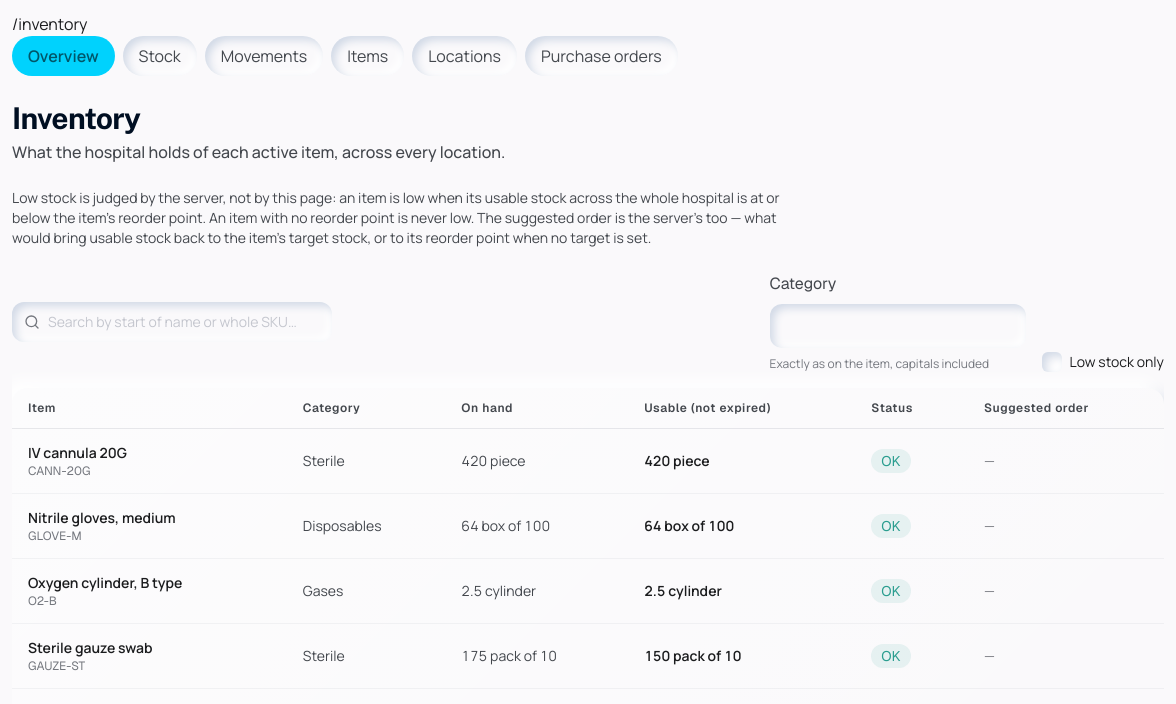
it: inventory overview › sends the search trimmed, once the typing stops
The image size is (1176, 704).
Type "  ster" into the field labelled "Search by start of name or whole SKU…" at (172, 322), box x1=12 y1=302 x2=332 y2=342
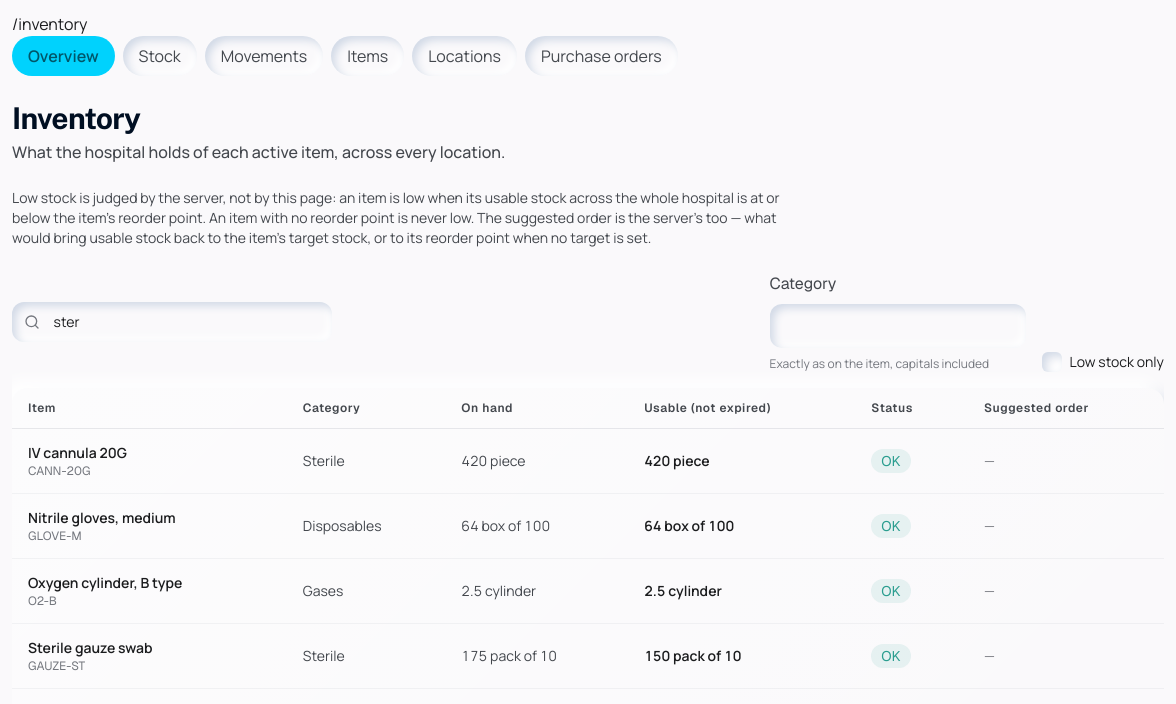
Replace the text in the field named "Search by start of name or whole SKU…" with "  steri  " at (172, 322), box x1=12 y1=302 x2=332 y2=342
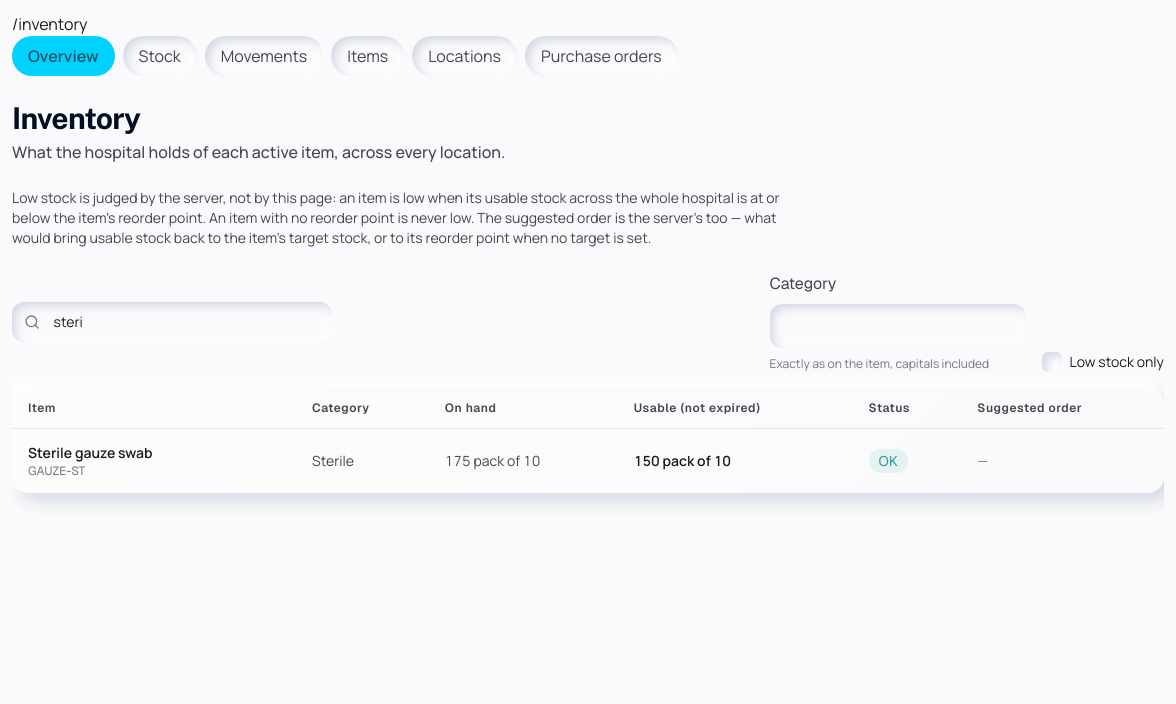
Check: the link "IV cannula 20G" is gone
Check: the row "Sterile gauze swab" is shown, box x1=12 y1=428 x2=1164 y2=493
